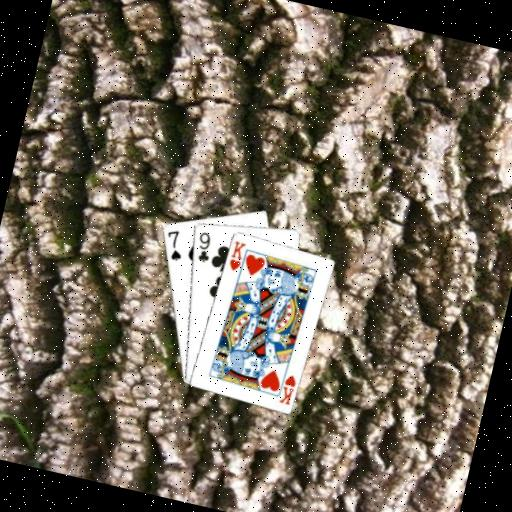7S: (159, 225, 189, 263)
9C: (191, 228, 217, 265)
KH: (275, 370, 299, 407), (224, 238, 248, 274)
